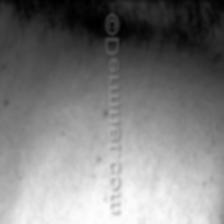Unclassified: (100, 104, 112, 134), (1, 92, 12, 112), (0, 57, 10, 75)
